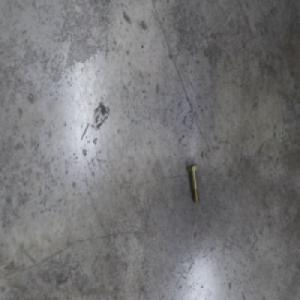Bolt: (188, 160, 201, 202)
